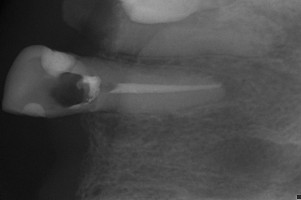Furcation Involvement: (211, 73, 245, 102)
